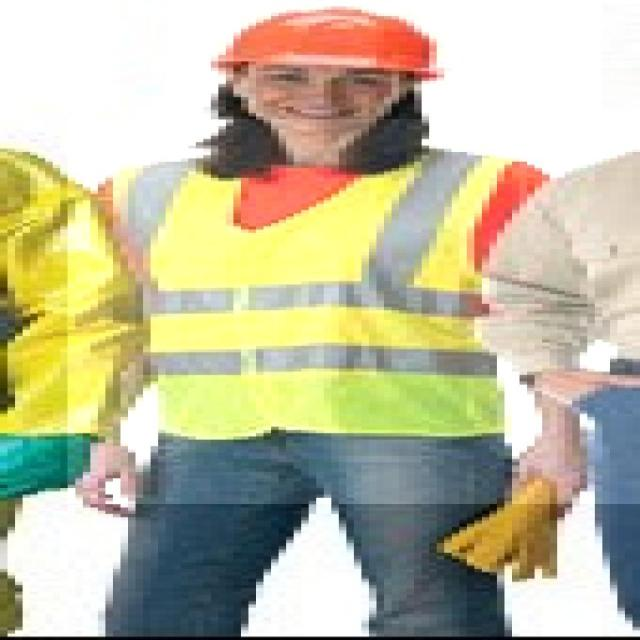Helmet: (167, 0, 527, 147)
Safety Vest: (67, 119, 640, 504)
